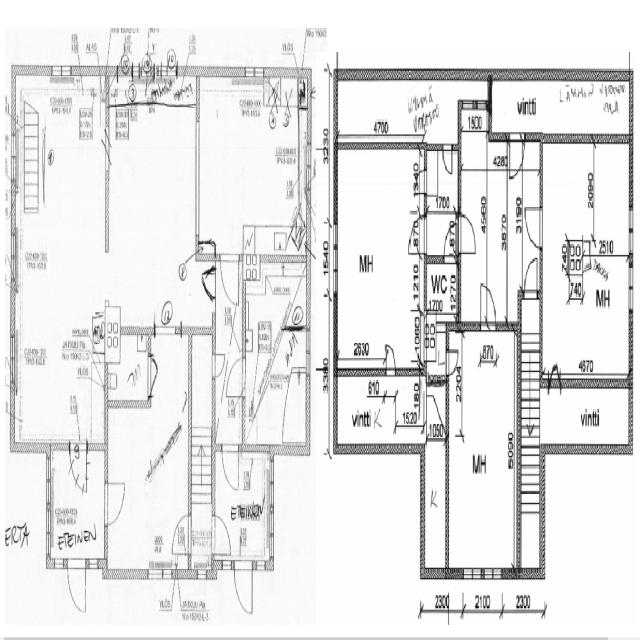door: (213, 442, 272, 562), (523, 205, 541, 297), (68, 557, 88, 616), (234, 556, 254, 615), (220, 438, 240, 493), (219, 254, 241, 304), (105, 476, 126, 526), (211, 509, 232, 558), (524, 201, 544, 251), (458, 210, 478, 256), (71, 442, 88, 491), (508, 131, 526, 177), (522, 254, 540, 298), (480, 281, 497, 324), (200, 259, 217, 302), (226, 355, 243, 397), (408, 214, 425, 256), (460, 98, 477, 134), (443, 221, 458, 257), (383, 338, 398, 373), (212, 347, 226, 380), (442, 142, 454, 176), (446, 345, 459, 376)
window: (193, 114, 203, 242), (329, 217, 339, 302), (51, 59, 74, 82), (479, 562, 505, 582), (461, 563, 483, 581), (627, 260, 634, 313), (627, 204, 634, 253), (52, 555, 67, 573)
zone: (14, 80, 108, 435), (542, 140, 631, 381), (106, 107, 198, 326), (334, 149, 422, 373), (198, 76, 305, 248), (448, 327, 518, 575), (105, 399, 190, 572), (243, 282, 308, 449), (213, 445, 272, 566), (48, 451, 108, 563), (334, 374, 420, 449), (591, 143, 630, 257), (424, 145, 459, 260), (107, 326, 151, 407), (422, 443, 448, 577), (215, 255, 244, 372), (190, 330, 214, 434), (425, 255, 459, 316), (189, 504, 213, 574), (425, 318, 447, 384), (196, 251, 216, 319), (425, 380, 446, 439), (71, 444, 87, 491)
